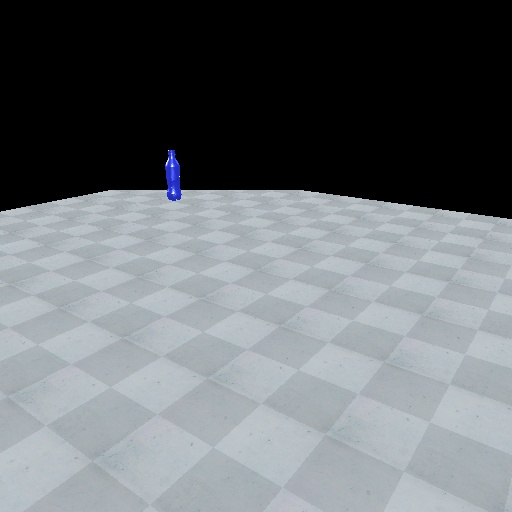bottle: (160, 148, 185, 202)
